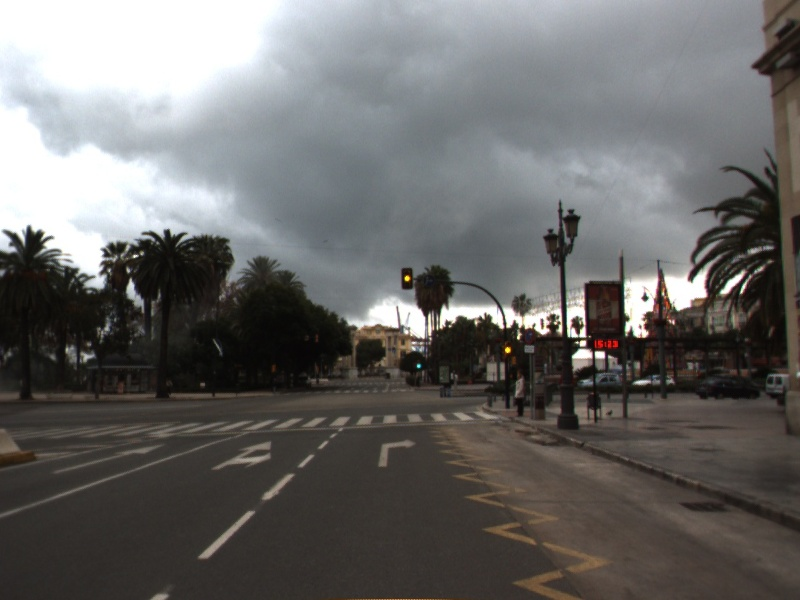RIGHT: (376, 436, 419, 469)
STRAIGHT: (50, 442, 168, 476)
STRAIGHT_RIGHT: (209, 439, 274, 472)
